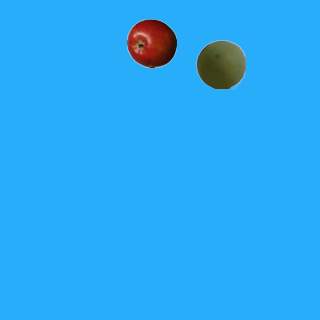Apple Braeburn: (126, 18, 176, 68)
Grape White 4: (195, 39, 245, 89)
